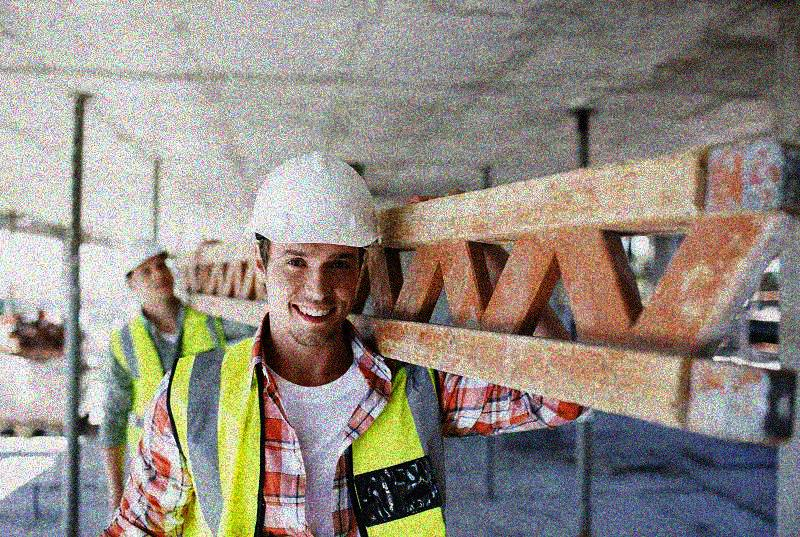helmet: (244, 150, 381, 351), (114, 236, 181, 306)
